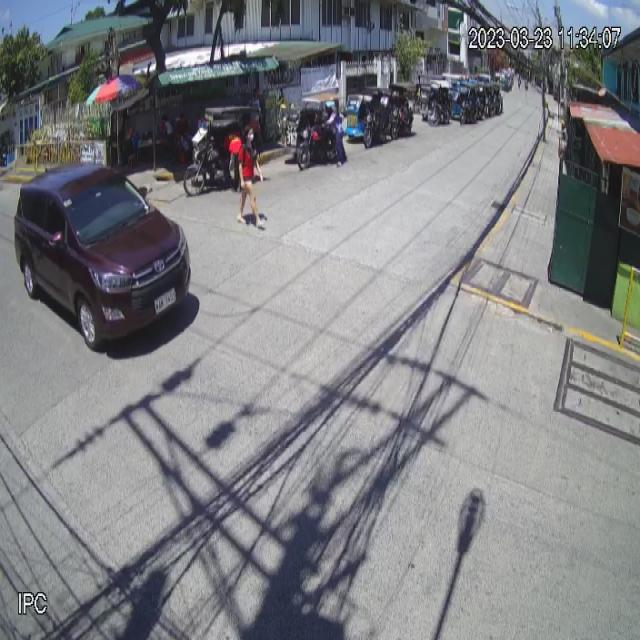Car: (13, 161, 192, 350)
